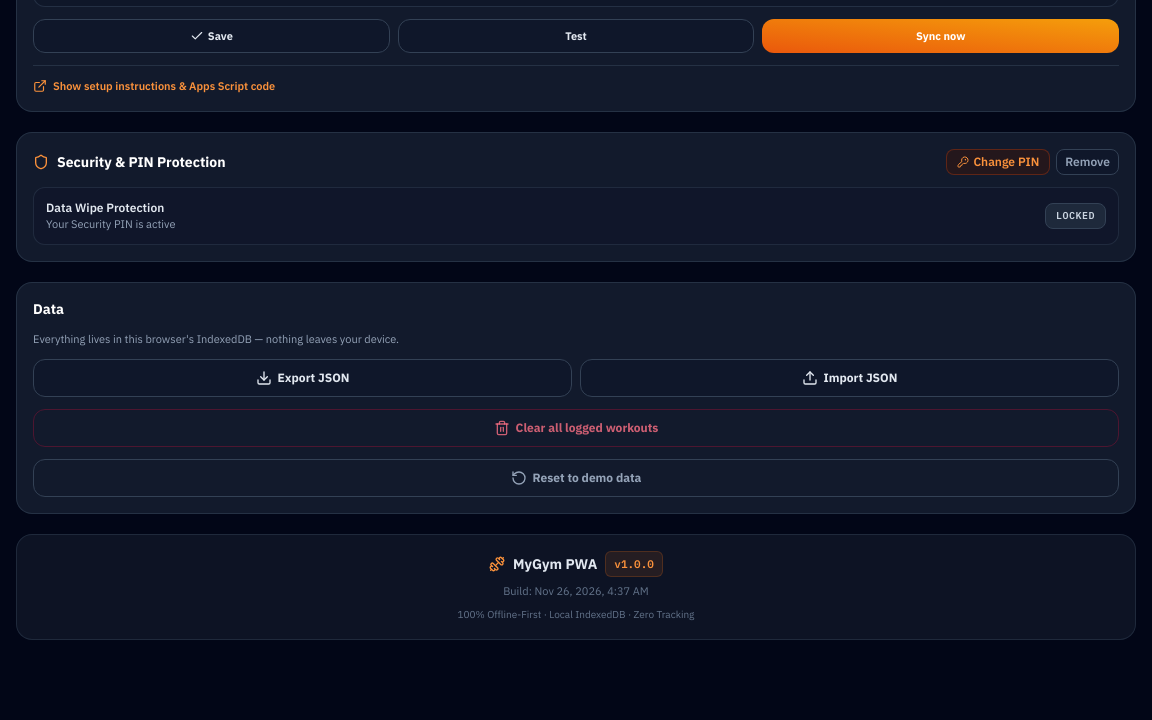
Security PIN & Data Protection › UI: Destructive Action Protection › requires PIN when Reset to demo data is clicked if PIN is configured
(page scrolled)
Click the button "Reset to demo data" at [576, 478], box x1=33 y1=459 x2=1119 y2=497
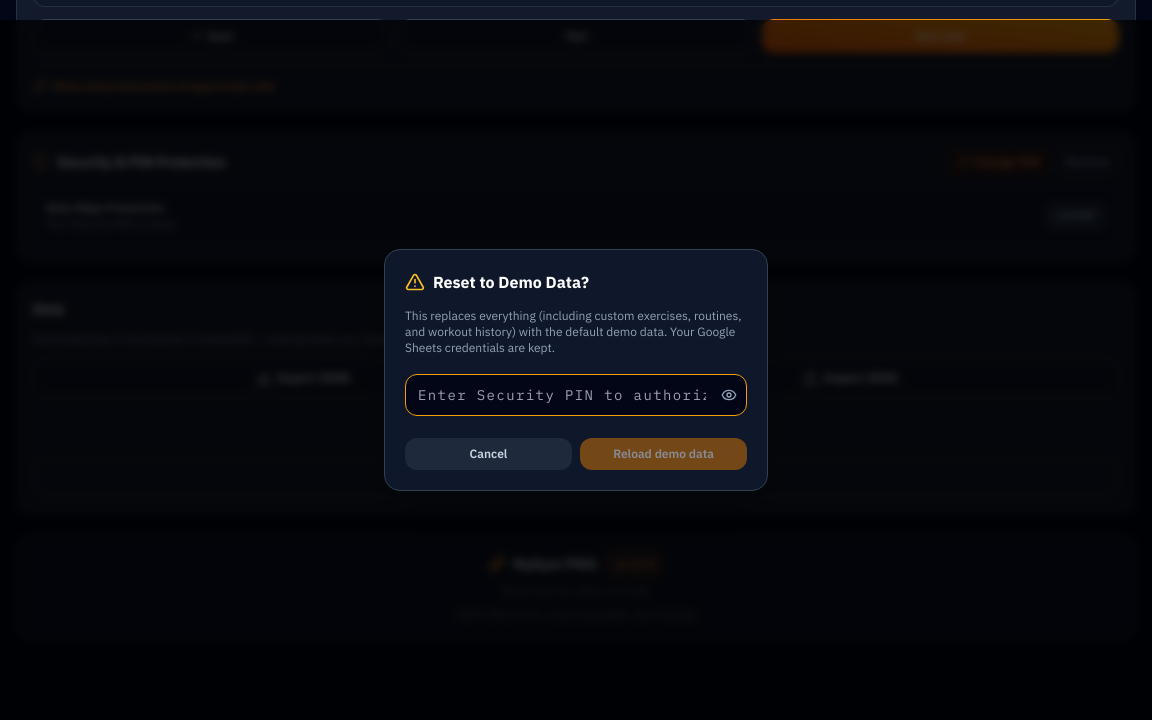
Check: the heading "Reset to Demo Data?" is shown, box x1=433 y1=270 x2=589 y2=294
Note: Wrong PIN
Type "0000" into the password field with placeholder "Enter Security PIN to authorize" at [576, 395], box x1=405 y1=374 x2=747 y2=416
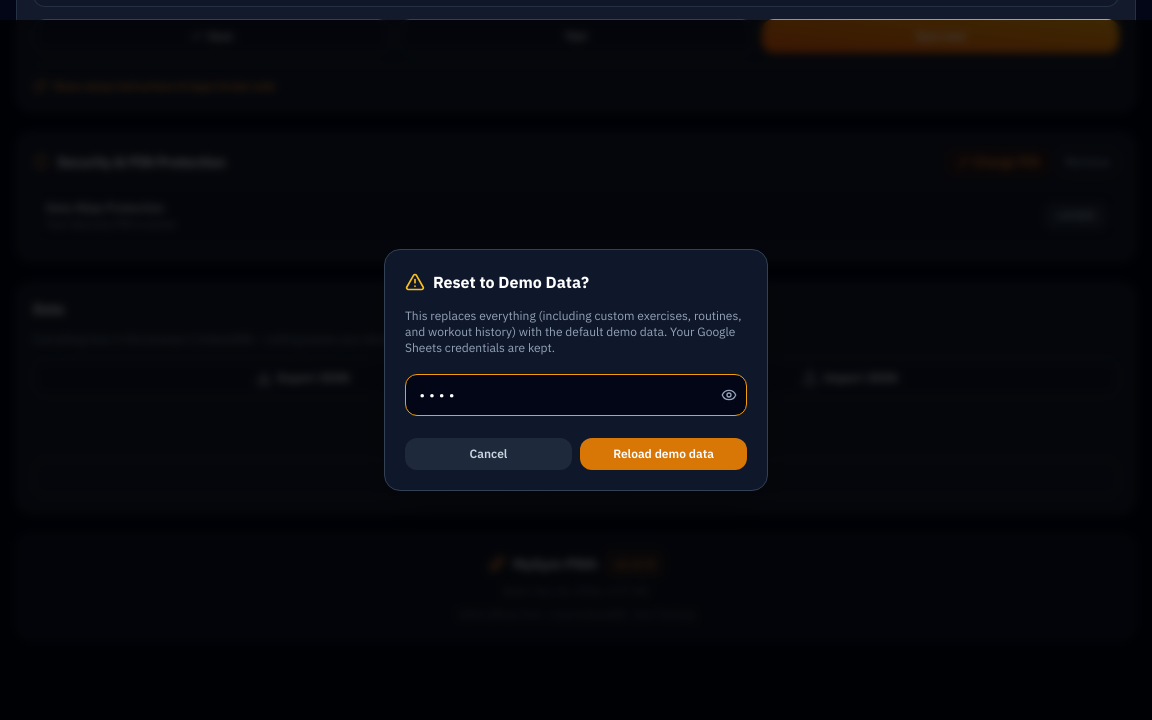
Click the button "Reload demo data" at [664, 454], box x1=580 y1=438 x2=747 y2=470
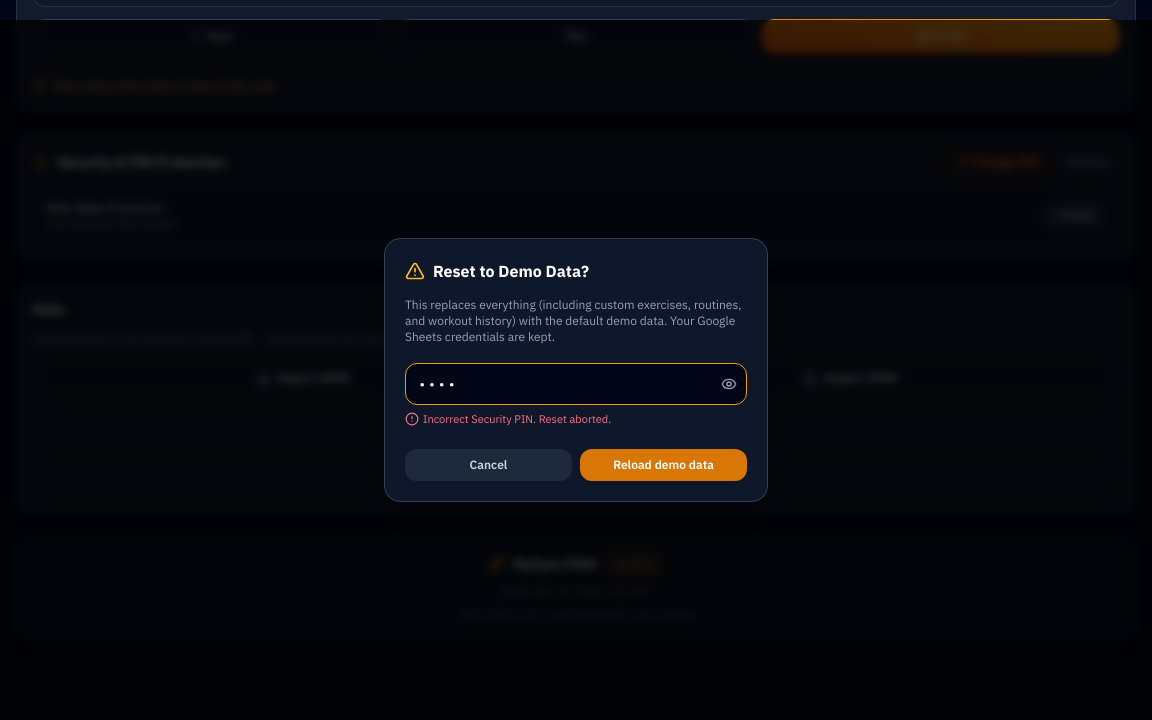
Check: the text "Incorrect Security PIN. Reset aborted." is shown, box x1=423 y1=411 x2=611 y2=427
Note: Correct PIN
Type "8888" into the password field with placeholder "Enter Security PIN to authorize" at [576, 384], box x1=405 y1=363 x2=747 y2=405
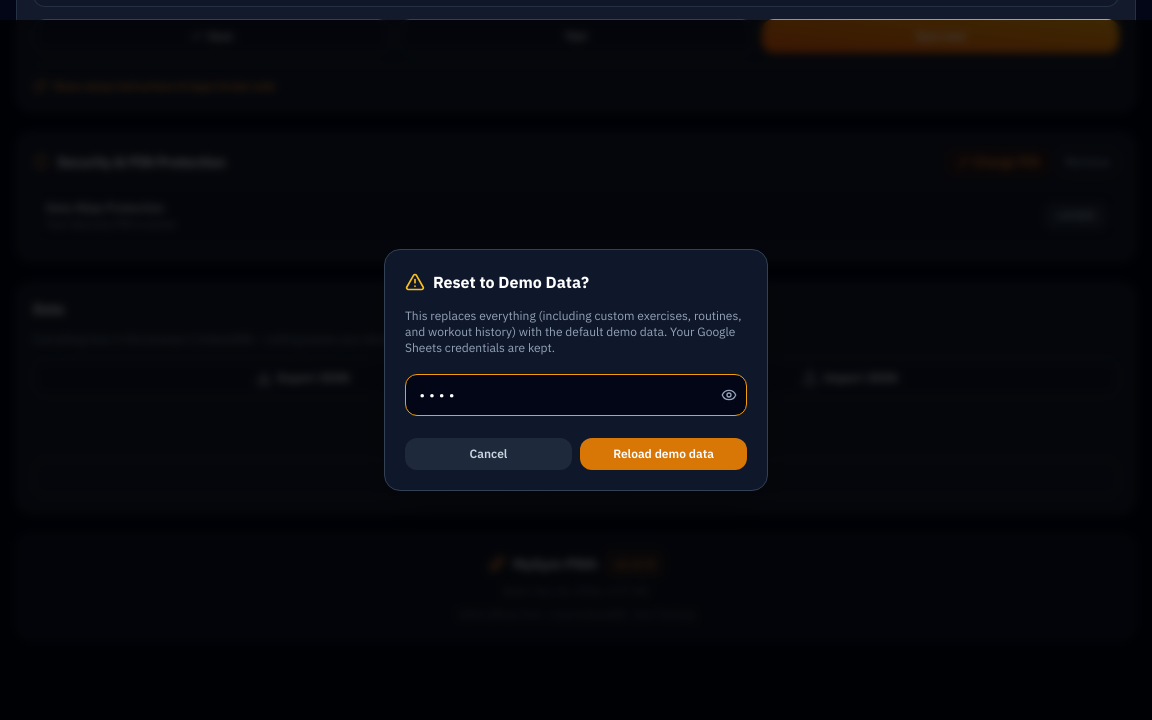
Click the button "Reload demo data" at [664, 454], box x1=580 y1=438 x2=747 y2=470
(page scrolled)
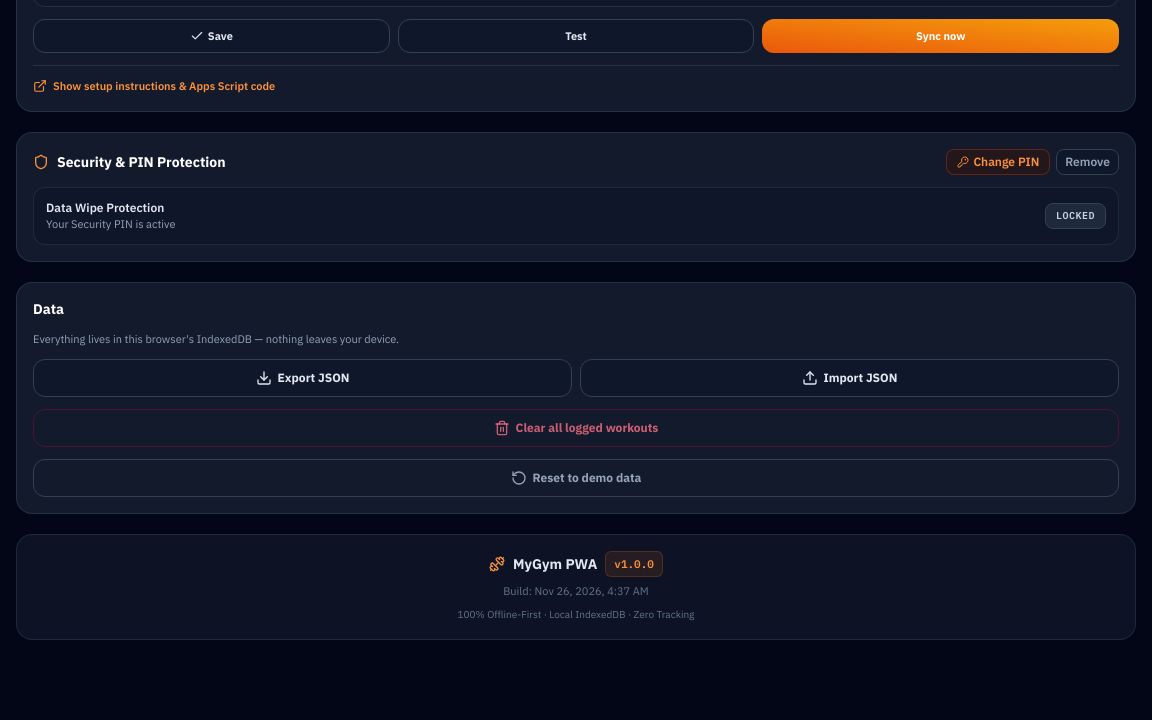
Check: the heading "Reset to Demo Data?" is gone
